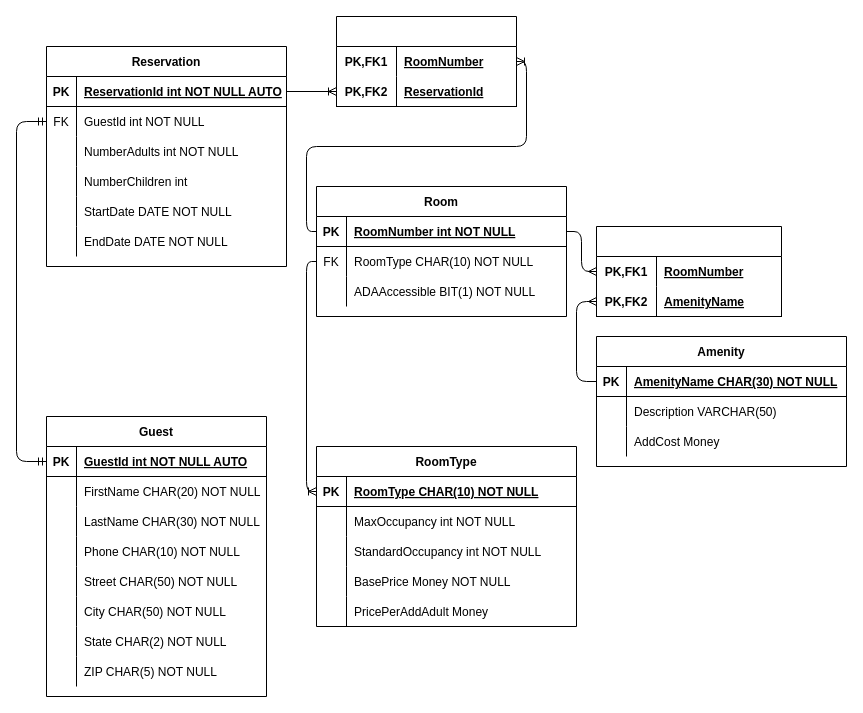
Image size: 863x713. Some labels were removed from this diagram. Each missing label, with the box of its shape:
RoomAmenity: (596, 226, 782, 316)
RoomReservation: (336, 16, 516, 106)
